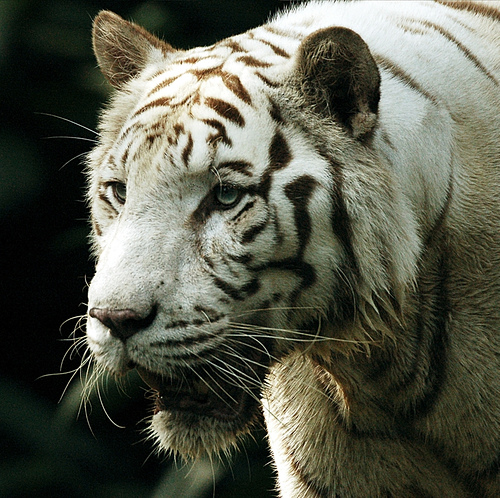Tigre: (48, 14, 494, 462)
